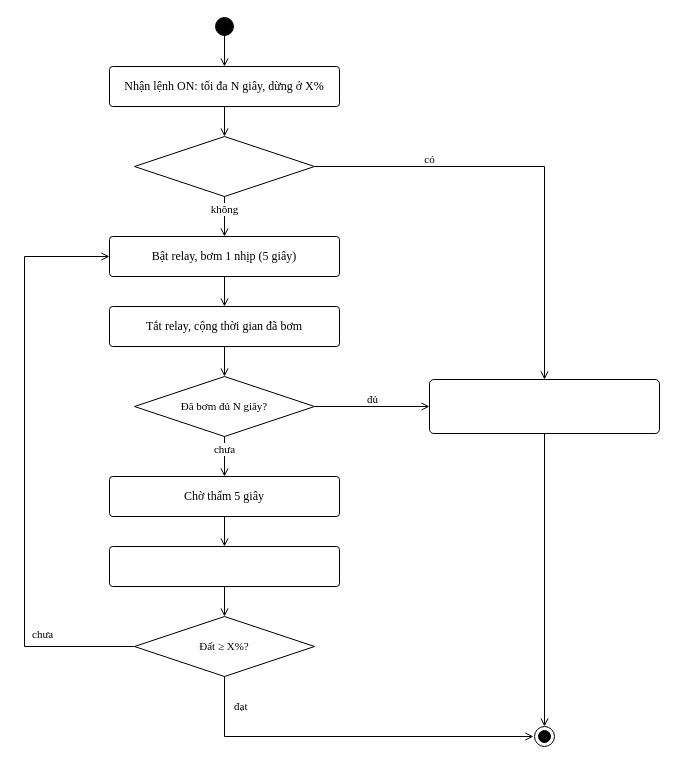
The diagram is 677 pixels wide and 764 high, and some of its shapes have lost their labels. Here are the shapes that lost their labels. From the top down, the box of each, then its label:
(134, 136, 314, 196): Đất ≥ X% ngay từ đầu?
(428, 378, 660, 434): Báo pump-done: giây thật, độ ẩm, lý do dừng
(108, 546, 340, 586): Đo độ ẩm đất (trung vị 21 lần)
